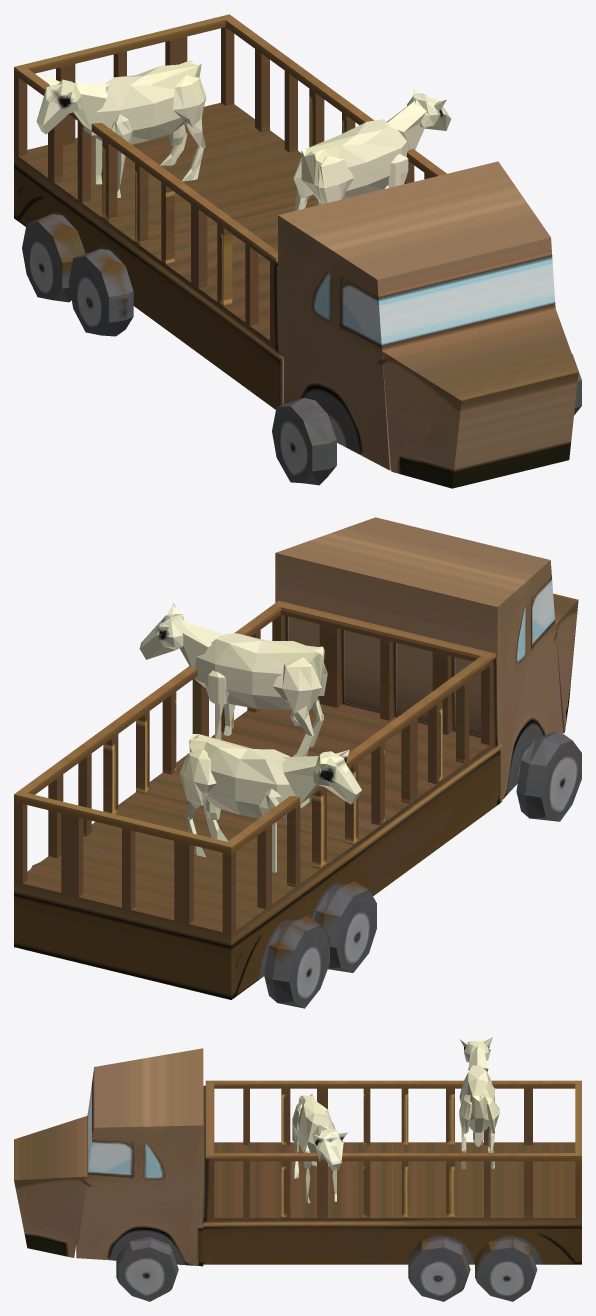
Rendered from FarmTruk.glb.
3 views of the same model, one above another, from view 1: azimuth 30°, elevation 25°; view 2: azimuth 150°, elevation 25°; view 3: azimuth 270°, elevation 25° (orthographic). The views are drawn at different scales.
Visible parts, largest first — view 1: FarmTruk; view 2: FarmTruk; view 3: FarmTruk.
Part boxes in pixels (x1,y1,x2,y2): FarmTruk: [14, 14, 581, 488]; FarmTruk: [14, 517, 581, 1008]; FarmTruk: [14, 1037, 581, 1301].
Bounding box in the file's own units: 97.79 × 69.63 × 214.
Materials: 1 (1 with a texture image).
